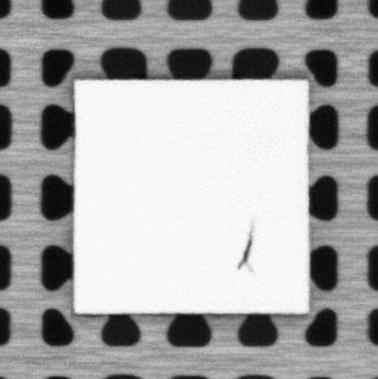DIE_INK: (234, 229, 253, 270)
